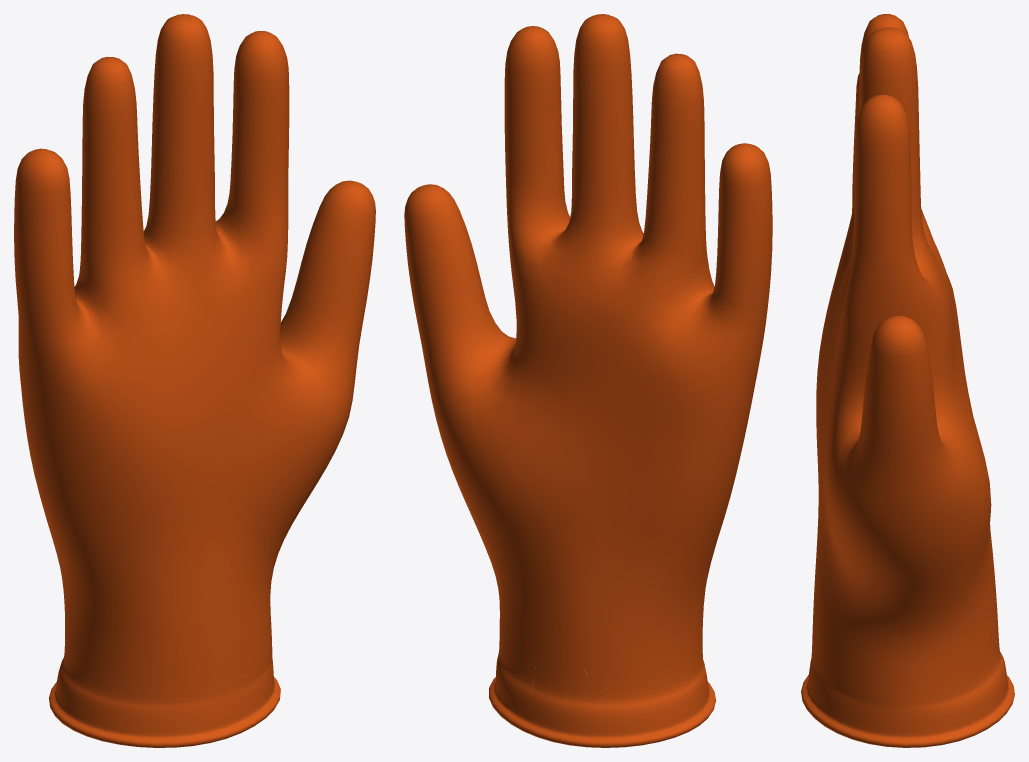
File: micro-diamond-8-mil--orange.glb
3 renders of one model, left to right at view 1: azimuth 30°, elevation 25°; view 2: azimuth 150°, elevation 25°; view 3: azimuth 270°, elevation 25°, orthographic. The views are drawn at different scales.
Parts seen in each view (by area): view 1: garden_gloves_01.001; view 2: garden_gloves_01.001; view 3: garden_gloves_01.001.
Boxes of the visible parts, left/top/right/bottom form: garden_gloves_01.001: left=14, top=14, right=375, bottom=747; garden_gloves_01.001: left=404, top=14, right=772, bottom=747; garden_gloves_01.001: left=801, top=14, right=1014, bottom=747.
Bounding box in the file's own units: 0.1308 × 0.2401 × 0.0689.
Materials: 3 (2 with a texture image).
